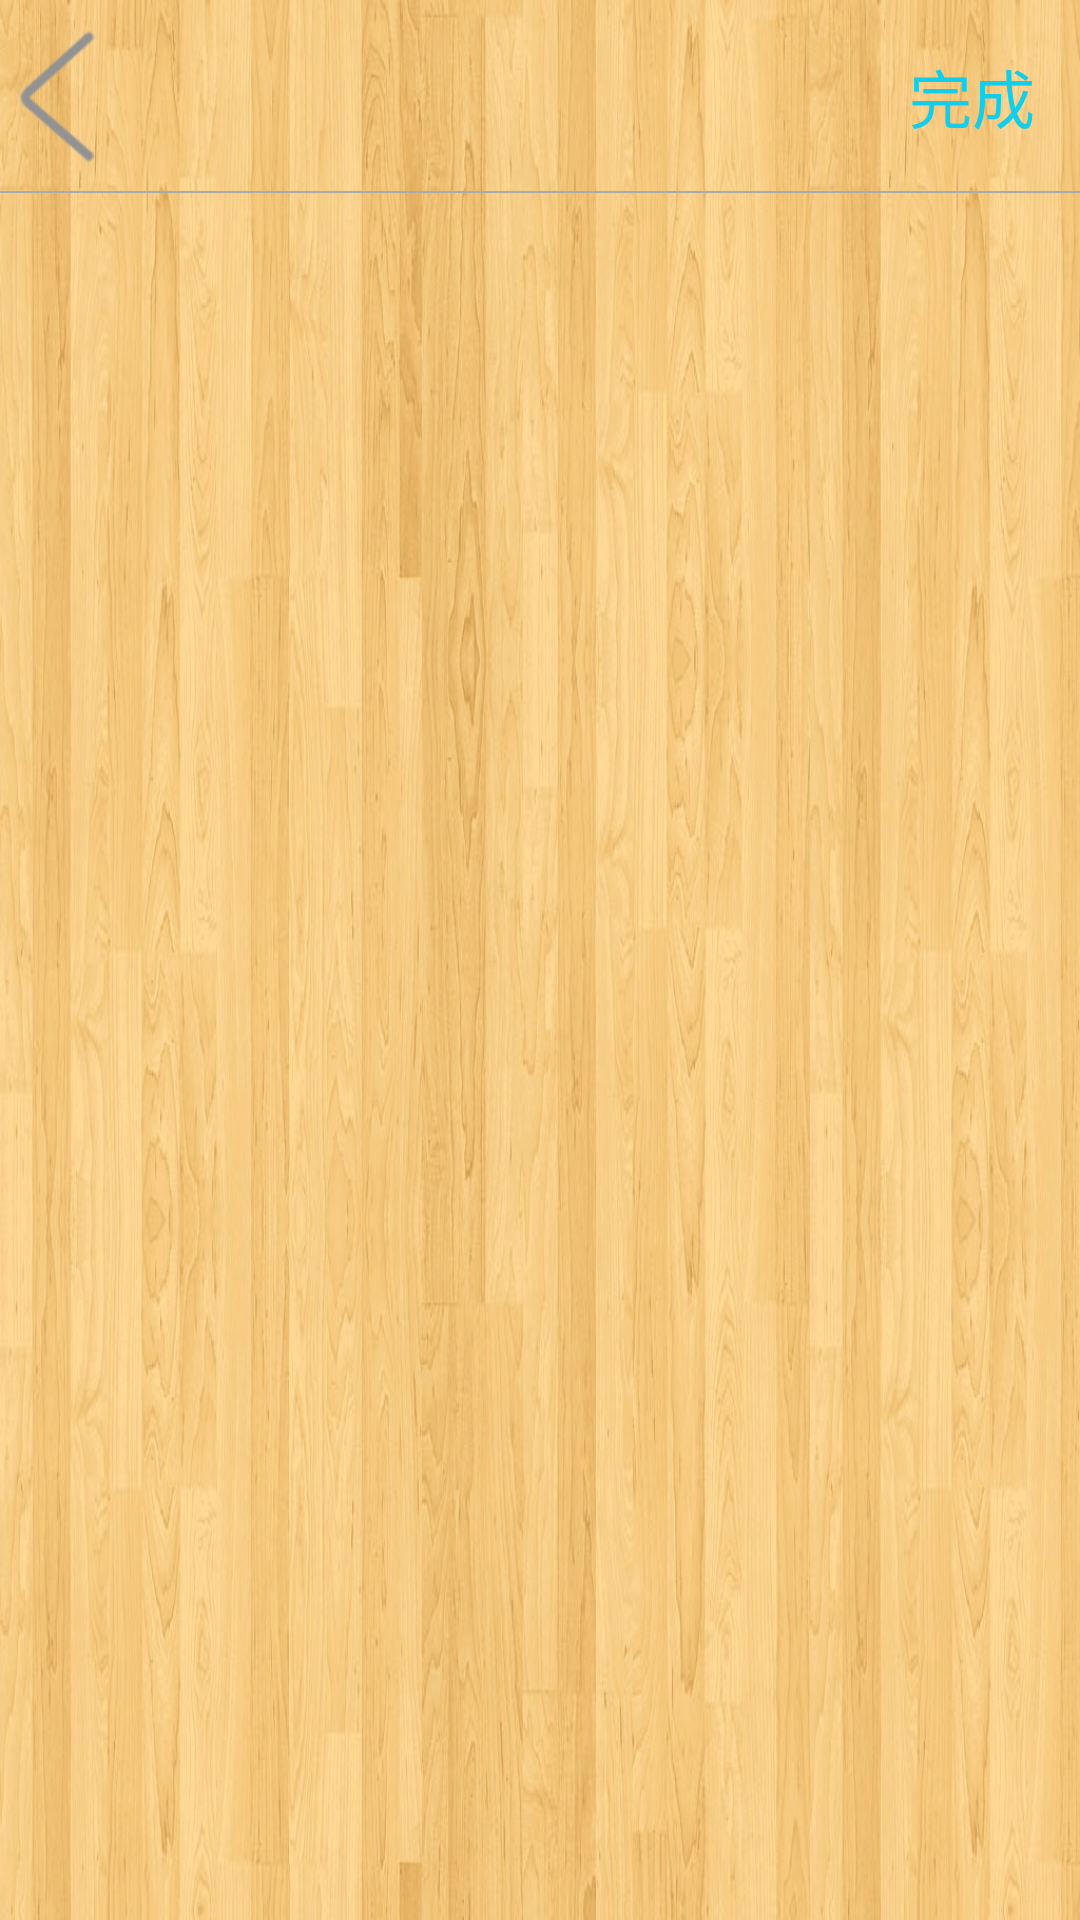

Icon click points for this 1080 x 1920 phone screenshot, format point (x, y):
back: point (64, 93)
